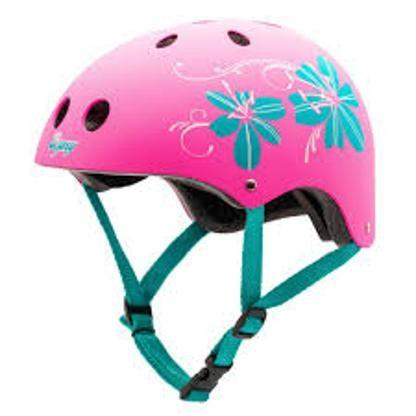not trash: (30, 12, 388, 401)
